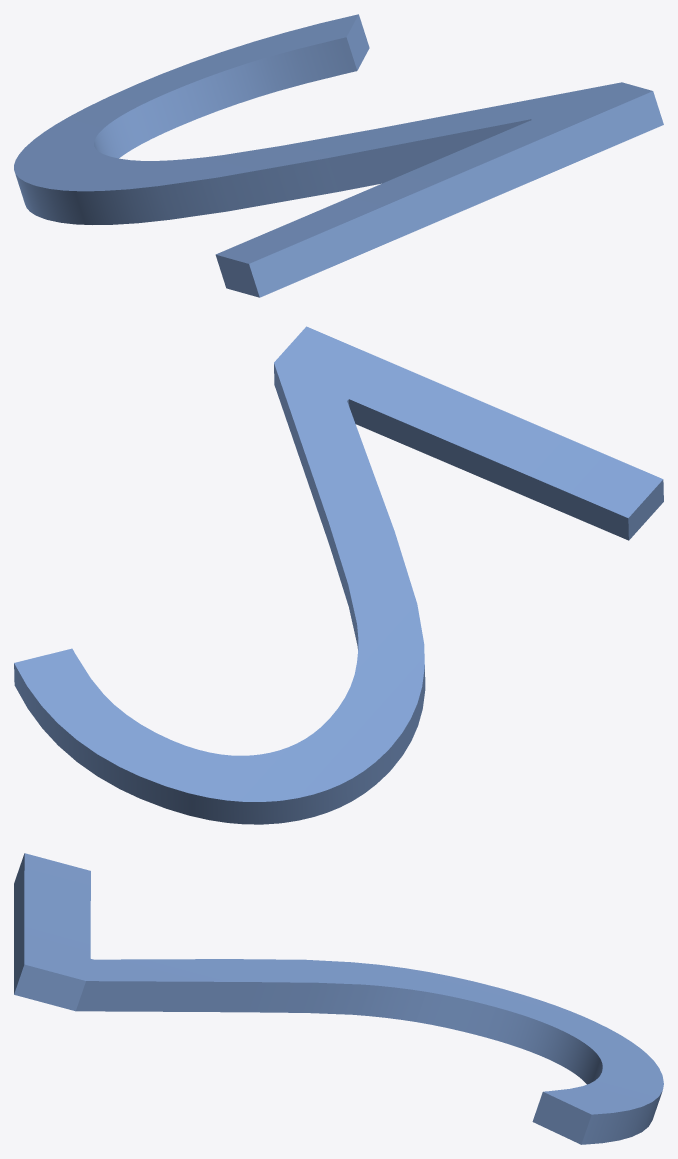
The model's file is New_Number_2.gltf.
3 renders of one model, top to bottom at view 1: azimuth 30°, elevation 25°; view 2: azimuth 150°, elevation 25°; view 3: azimuth 270°, elevation 25°, orthographic. The views are drawn at different scales.
Parts seen in each view (by area): view 1: Part 686; view 2: Part 686; view 3: Part 686.
Part boxes in pixels (x1,y1,x2,y2): Part 686: [14, 14, 663, 297]; Part 686: [14, 326, 663, 824]; Part 686: [14, 853, 663, 1144].
Size of the model in its own units: 0.00345 by 0.00197 by 0.00501.
